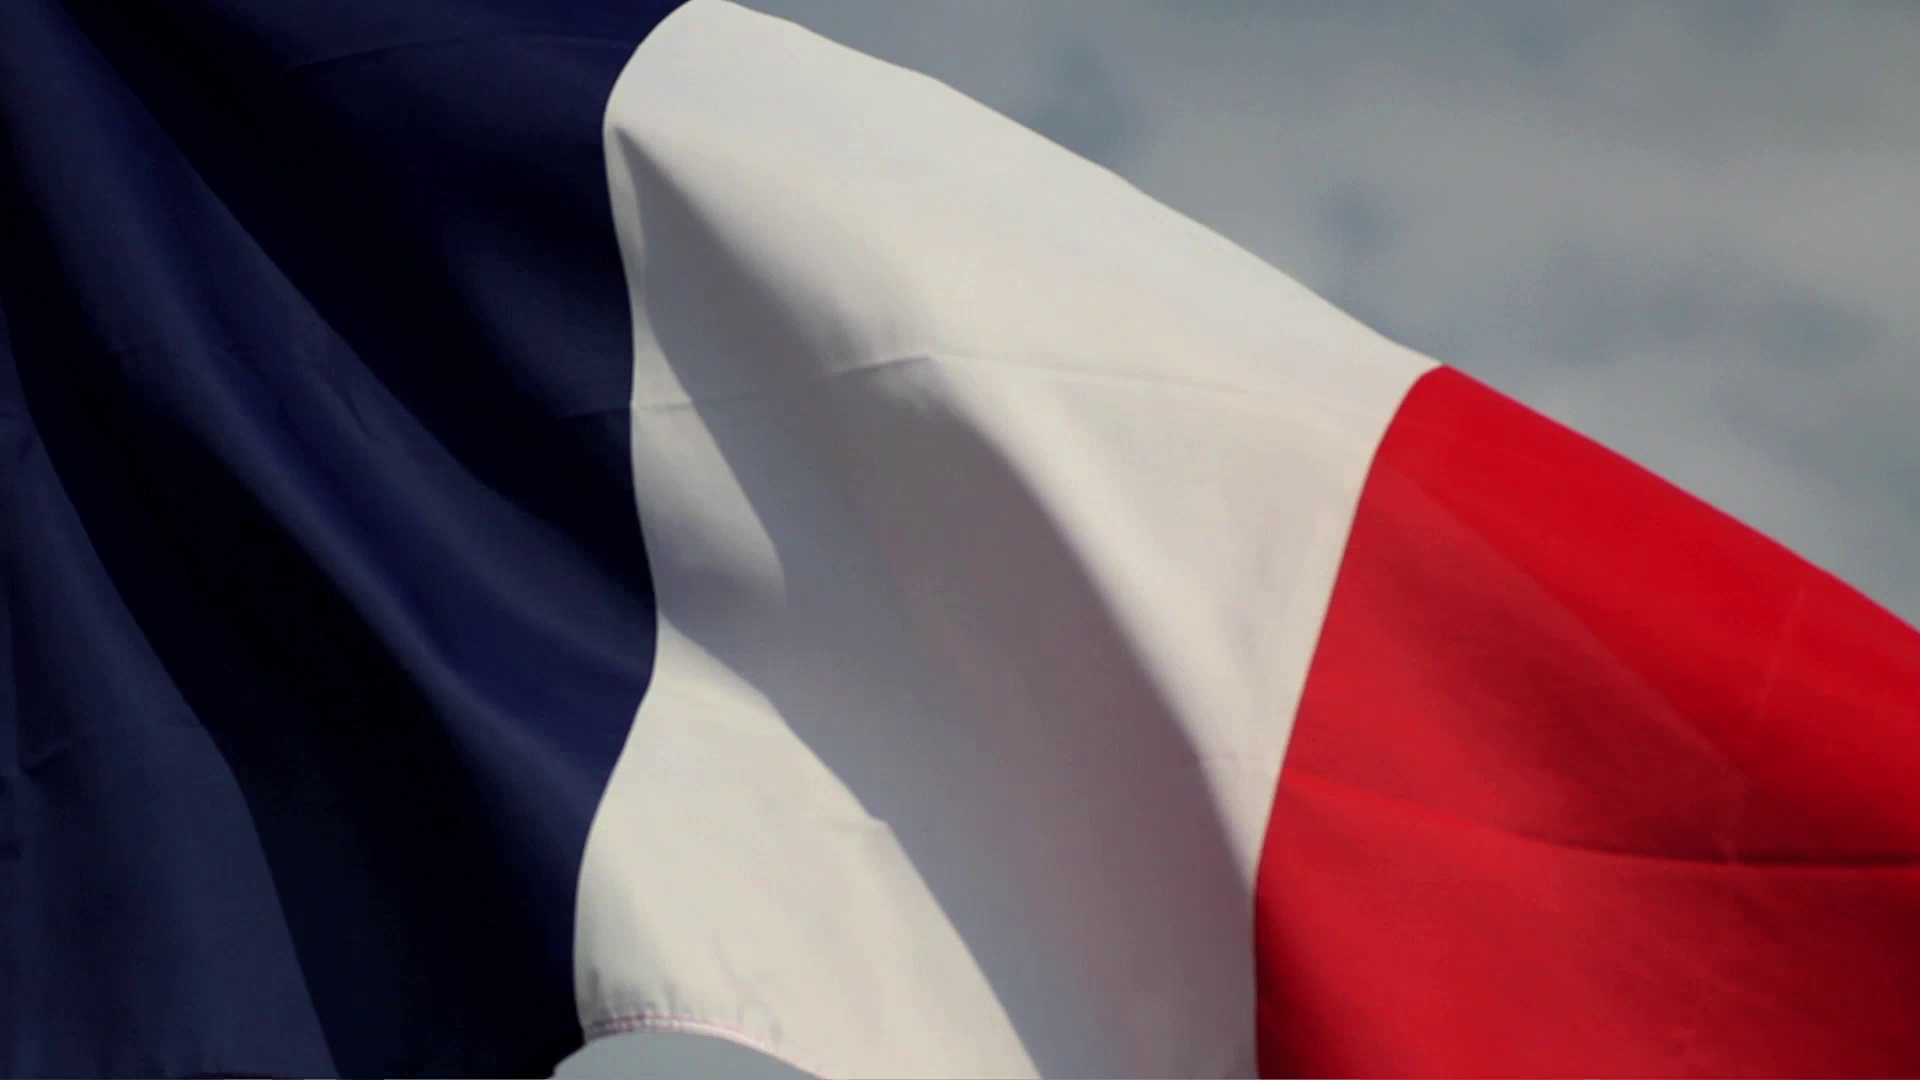French Flag: (1, 1, 1920, 1079)
